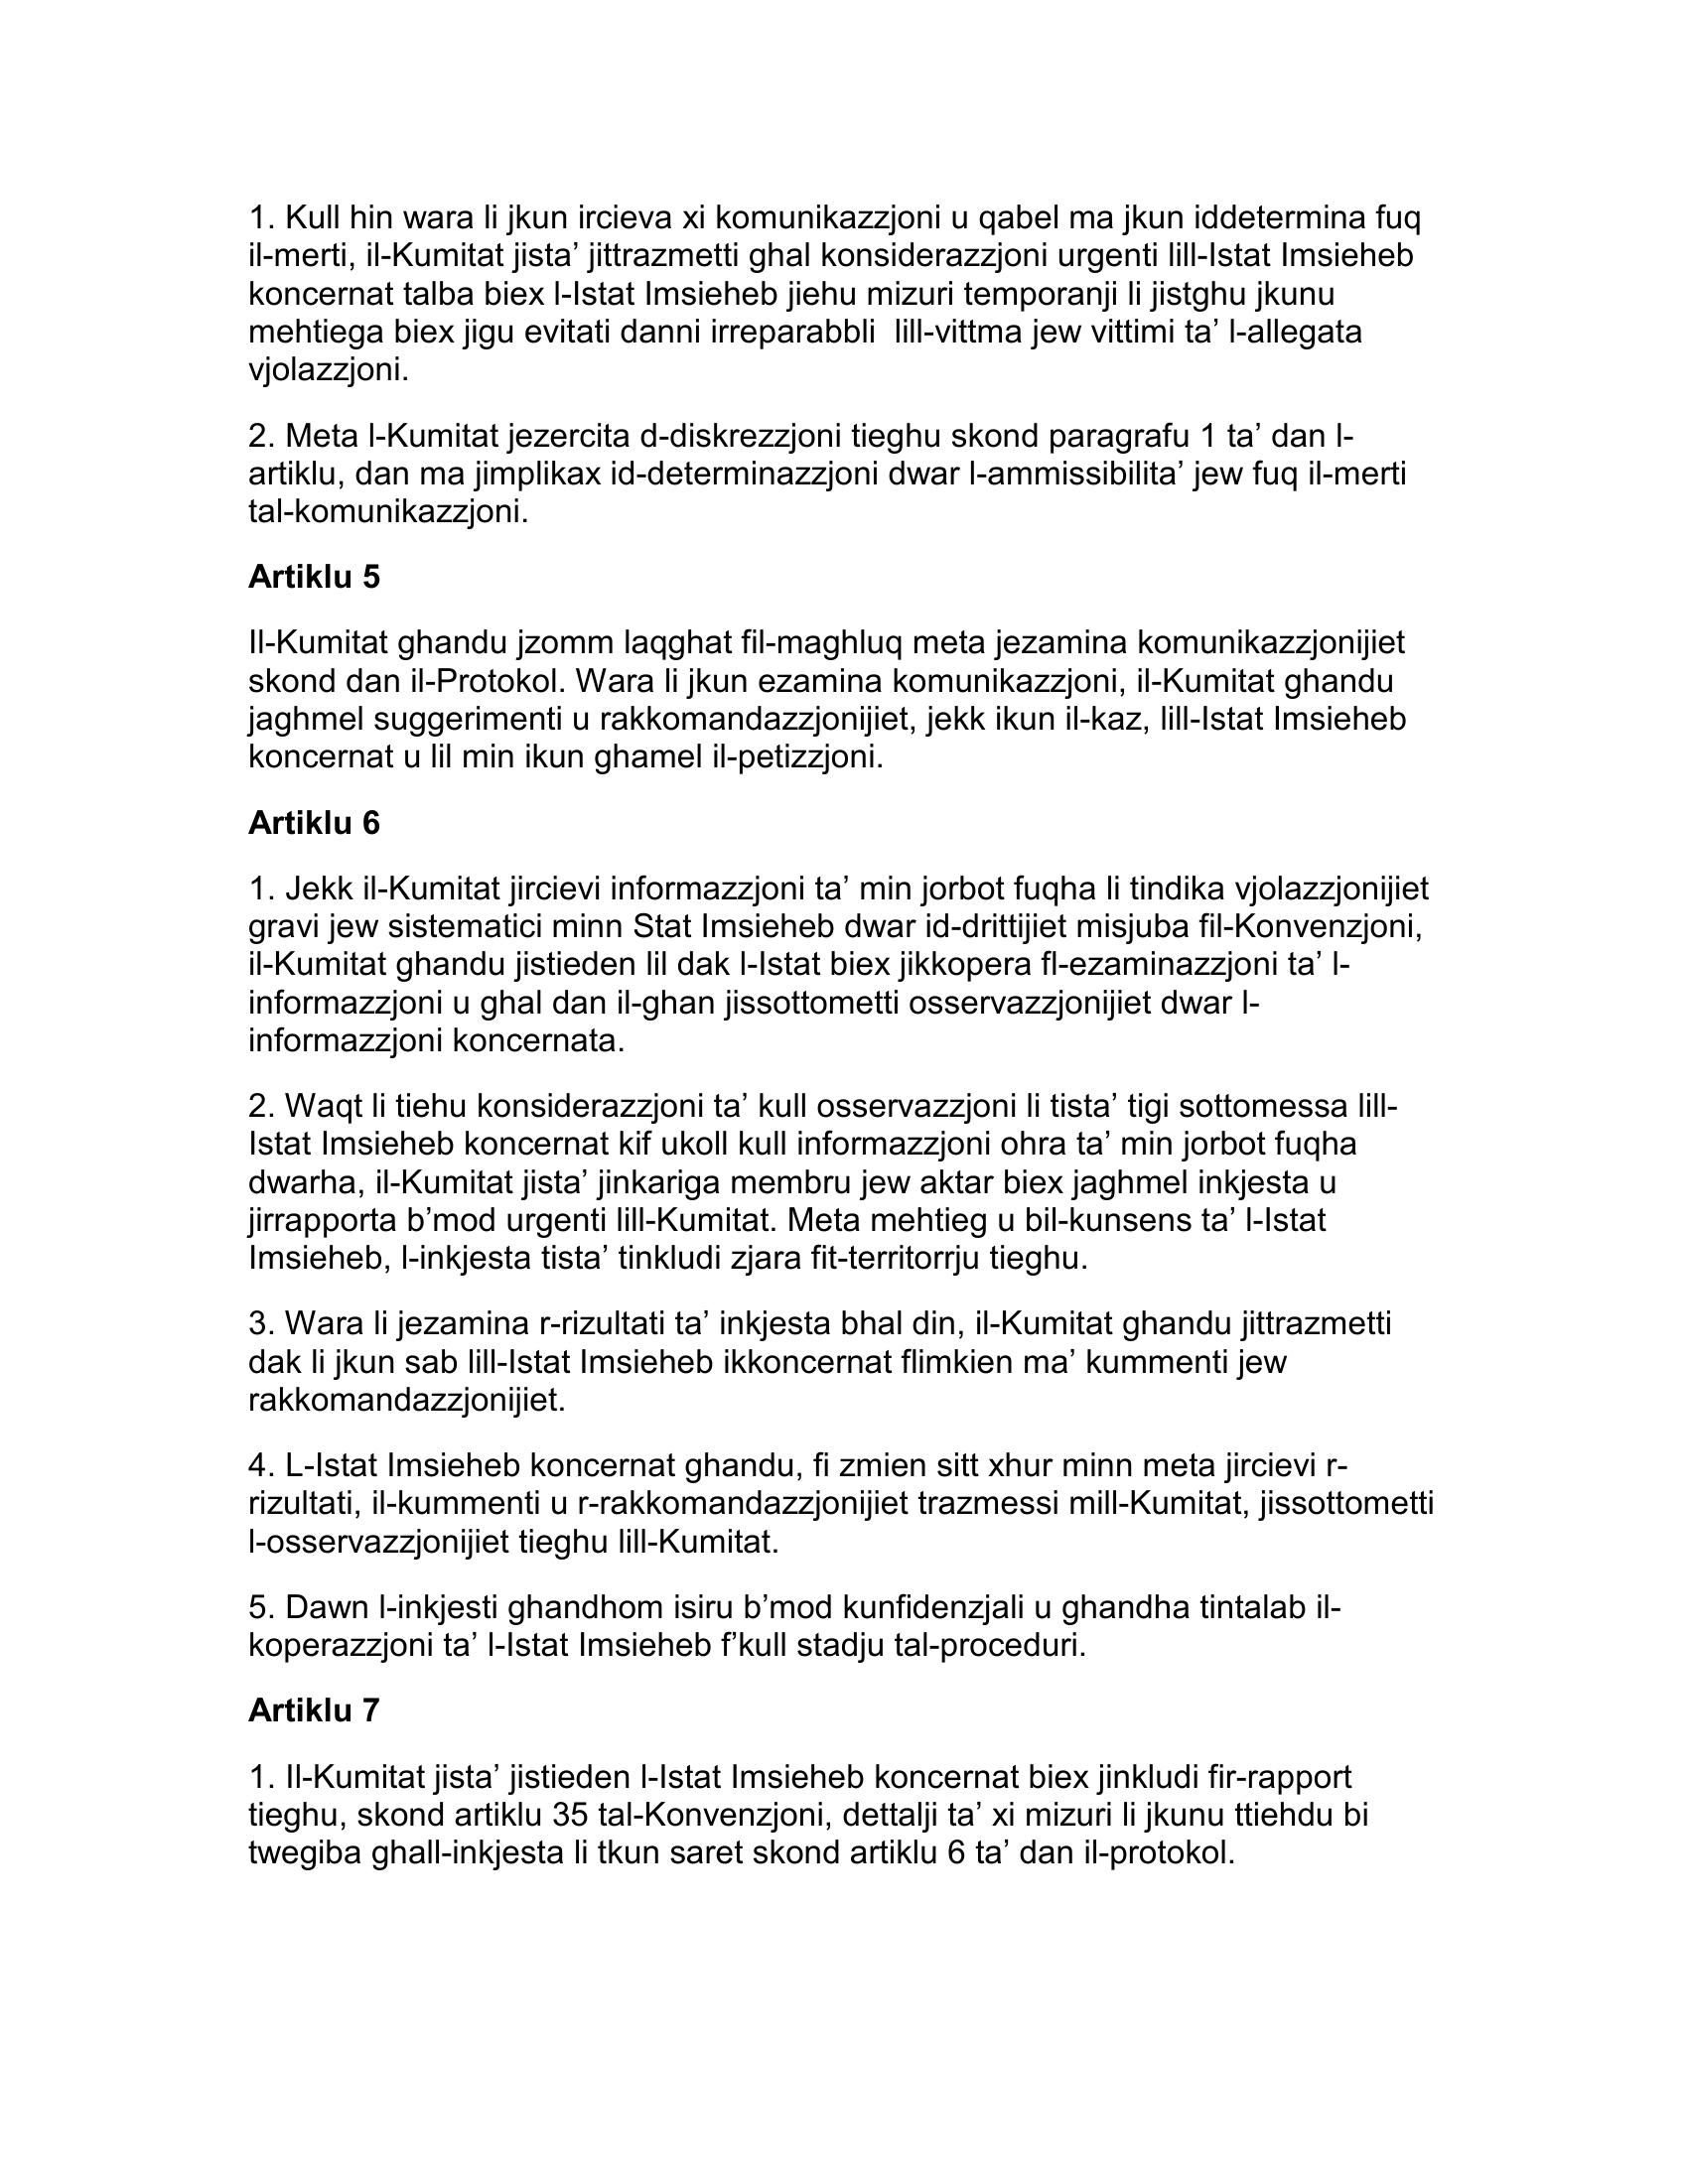text: (223, 181, 1447, 1895)
